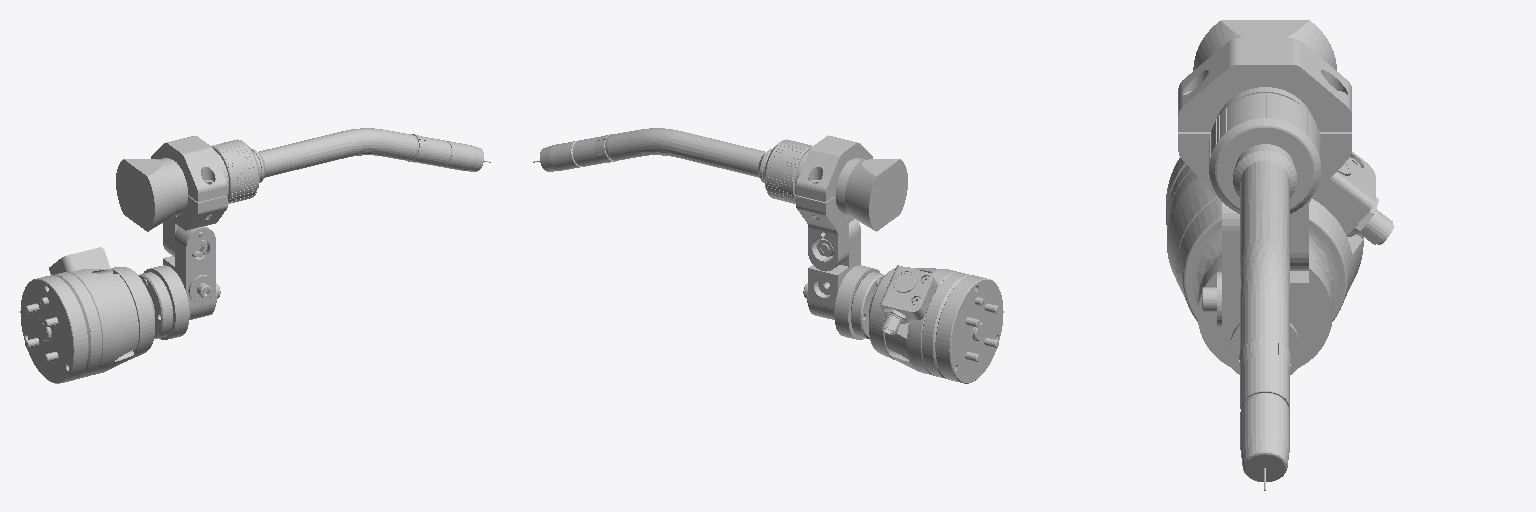
URDF robot description (gp7):
<?xml version='1.0' encoding='utf-8'?>
<robot name="gp7">
  <link name="Base">
    <visual>
      <geometry>
        <mesh filename="meshes/visual/gp7_base_axis.stl" />
      </geometry>
      <material name="blue">
        <color rgba="0 0 1 1" />
      </material>
    </visual>
    <collision><geometry><sphere radius="0.164472" /></geometry><origin xyz="-0.001641 -0.000214 0.090296" rpy="0 0 0" /></collision></link>
  <link name="vendor_base_link" />
  <link name="Link1">
    <visual>
      <geometry>
        <mesh filename="meshes/visual/gp7_s_axis.stl" />
      </geometry>
      <material name="silver">
        <color rgba="0.8 0.8 0.8 1" />
      </material>
    </visual>
    <collision><geometry><sphere radius="0.11895" /></geometry><origin xyz="-0.000119 0.0 0.261213" rpy="0 0 0" /></collision><collision><geometry><sphere radius="0.079117" /></geometry><origin xyz="0.040256 0.036395 0.332484" rpy="0 0 0" /></collision><collision><geometry><sphere radius="0.078406" /></geometry><origin xyz="0.040256 -0.036395 0.332484" rpy="0 0 0" /></collision></link>
  <link name="Link2">
    <visual>
      <geometry>
        <mesh filename="meshes/visual/gp7_l_axis.stl" />
      </geometry>
      <material name="blue">
        <color rgba="0 0 1 1" />
      </material>
    </visual>
    <collision><geometry><sphere radius="0.102818" /></geometry><origin xyz="-0.032775 -0.068236 0.22181" rpy="0 0 0" /></collision><collision><geometry><sphere radius="0.094131" /></geometry><origin xyz="-0.025394 -0.080601 0.375909" rpy="0 0 0" /></collision><collision><geometry><sphere radius="0.093407" /></geometry><origin xyz="-0.03413 -0.068914 0.112765" rpy="0 0 0" /></collision><collision><geometry><sphere radius="0.086461" /></geometry><origin xyz="-0.042941 0.001266 0.175065" rpy="0 0 0" /></collision><collision><geometry><sphere radius="0.102818" /></geometry><origin xyz="-0.032775 0.068236 0.22181" rpy="0 0 0" /></collision><collision><geometry><sphere radius="0.059744" /></geometry><origin xyz="0.002207 -0.083922 0.44615" rpy="0 0 0" /></collision><collision><geometry><sphere radius="0.059744" /></geometry><origin xyz="0.002207 0.083922 0.44615" rpy="0 0 0" /></collision><collision><geometry><sphere radius="0.094131" /></geometry><origin xyz="-0.025394 0.080601 0.375909" rpy="0 0 0" /></collision><collision><geometry><sphere radius="0.093407" /></geometry><origin xyz="-0.03413 0.068914 0.112765" rpy="0 0 0" /></collision><collision><geometry><sphere radius="0.08691" /></geometry><origin xyz="-0.00318 0.085804 0.011935" rpy="0 0 0" /></collision><collision><geometry><sphere radius="0.08691" /></geometry><origin xyz="-0.00318 -0.085804 0.011935" rpy="0 0 0" /></collision></link>
  <link name="Link3">
    <visual>
      <geometry>
        <mesh filename="meshes/visual/gp7_u_axis.stl" />
      </geometry>
      <material name="silver">
        <color rgba="0.8 0.8 0.8 1" />
      </material>
    </visual>
    <collision><geometry><sphere radius="0.115977" /></geometry><origin xyz="-0.017356 -0.001491 0.018327" rpy="0 0 0" /></collision></link>
  <link name="Link4">
    <visual>
      <geometry>
        <mesh filename="meshes/visual/gp7_r_axis.stl" />
      </geometry>
      <material name="blue">
        <color rgba="0 0 1 1" />
      </material>
    </visual>
    <collision><geometry><sphere radius="0.06667" /></geometry><origin xyz="0.112197 0.0 0.0" rpy="0 0 0" /></collision><collision><geometry><sphere radius="0.071966" /></geometry><origin xyz="0.181762 0.0 0.0" rpy="0 0 0" /></collision><collision><geometry><sphere radius="0.075208" /></geometry><origin xyz="0.250897 0.0 0.0" rpy="0 0 0" /></collision><collision><geometry><sphere radius="0.074723" /></geometry><origin xyz="0.31287 0.0 0.0" rpy="0 0 0" /></collision><collision><geometry><sphere radius="0.073844" /></geometry><origin xyz="0.364538 0.0 0.0" rpy="0 0 0" /></collision><collision><geometry><sphere radius="0.057088" /></geometry><origin xyz="0.428115 -0.016847 0.0" rpy="0 0 0" /></collision><collision><geometry><sphere radius="0.057152" /></geometry><origin xyz="0.427751 0.014466 0.0" rpy="0 0 0" /></collision></link>
  <link name="Link5">
    <visual>
      <geometry>
        <mesh filename="meshes/visual/gp7_b_axis.stl" />
      </geometry>
      <material name="silver">
        <color rgba="0.8 0.8 0.8 1" />
      </material>
    </visual>
    <collision><geometry><sphere radius="0.053627" /></geometry><origin xyz="0.000172 -2e-06 -1e-05" rpy="0 0 0" /></collision><collision><geometry><sphere radius="0.045624" /></geometry><origin xyz="0.048766 0.0 0.0" rpy="0 0 0" /></collision></link>
  <link name="Link6">
    <visual>
      <geometry>
        <mesh filename="meshes/visual/gp7_t_axis.stl" />
      </geometry>
      <material name="blue">
        <color rgba="0 0 1 1" />
      </material>
    </visual>
    <collision><geometry><sphere radius="0.033324" /></geometry><origin xyz="-0.014006 4e-06 -2.4e-05" rpy="0 0 0" /></collision></link>
  <link name="flange" />
  <link name="torch">
    <visual>
      <geometry>
        
        <mesh filename="meshes/visual/torch_visual_shortened_head.stl" />
      </geometry>
      <material name="silver">
        <color rgba="0.8 0.8 0.8 1" />
      </material>
    </visual>
    <collision><geometry><sphere radius="0.059426" /></geometry><origin xyz="0.0 -0.00102 0.0544" rpy="0 0 0" /></collision><collision><geometry><sphere radius="0.046906" /></geometry><origin xyz="-0.000376 0.013972 0.127321" rpy="0 0 0" /></collision><collision><geometry><sphere radius="0.020105" /></geometry><origin xyz="0.0 0.067457 0.352698" rpy="0 0 0" /></collision><collision><geometry><sphere radius="0.02004" /></geometry><origin xyz="-0.0 0.055643 0.379078" rpy="0 0 0" /></collision><collision><geometry><sphere radius="0.052295" /></geometry><origin xyz="0.0 0.090849 0.128805" rpy="0 0 0" /></collision><collision><geometry><sphere radius="0.02839" /></geometry><origin xyz="0.0 0.094363 0.181438" rpy="0 0 0" /></collision><collision><geometry><sphere radius="0.021893" /></geometry><origin xyz="0.0 0.095447 0.219442" rpy="0 0 0" /></collision><collision><geometry><sphere radius="0.023401" /></geometry><origin xyz="0.0 0.094379 0.250682" rpy="0 0 0" /></collision><collision><geometry><sphere radius="0.022797" /></geometry><origin xyz="0.0 0.092331 0.284823" rpy="0 0 0" /></collision><collision><geometry><sphere radius="0.022531" /></geometry><origin xyz="0.0 0.082766 0.319009" rpy="0 0 0" /></collision></link>
  <link name="tool_center_point" />
  
  <joint name="RevoluteJoint1" type="revolute">
    <parent link="Base" />
    <child link="Link1" />
    <origin xyz="0 0 0" />
    <axis xyz="0 0 1" />
    <limit effort="1" lower="-2.96705961" upper="2.96705961" velocity="6.544984694978735" />
  </joint>
  <joint name="joint_vendor_base" type="fixed">
    <parent link="Base" />
    <child link="vendor_base_link" />
    <origin xyz="0 0 0.330" />
  </joint>
  <joint name="RevoluteJoint2" type="revolute">
    <parent link="Link1" />
    <child link="Link2" />
    <origin xyz="0.040 0 0.330" />
    <axis xyz="0 1 0" />
    <limit effort="1" lower="-2.53072739" upper="1.13446403" velocity="5.497787143782138" />
  </joint>
  <joint name="RevoluteJoint3" type="revolute">
    <parent link="Link2" />
    <child link="Link3" />
    <origin xyz="0 0 0.445" />
    <axis xyz="0 -1 0" />
    <limit effort="1" lower="-1.22173047" upper="3.31612563" velocity="7.155849933176751" />
  </joint>
  <joint name="RevoluteJoint4" type="revolute">
    <parent link="Link3" />
    <child link="Link4" />
    <origin xyz="0.0 0 0.040" />
    <axis xyz="-1 0 0" />
    <limit effort="1" lower="-3.31612563" upper="3.31612563" velocity="9.599310885968812" />
  </joint>
  <joint name="RevoluteJoint5" type="revolute">
    <parent link="Link4" />
    <child link="Link5" />
    <origin xyz="0.440 0 0" />
    <axis xyz="0 -1 0" />
    <limit effort="1" lower="-2.3561945" upper="2.3561945" velocity="9.599310885968812" />
  </joint>
  <joint name="RevoluteJoint6" type="revolute">
    <parent link="Link5" />
    <child link="Link6" />
    <origin xyz="0.080 0 0" />
    <axis xyz="-1 0 0" />
    <limit effort="1" lower="-6.28318548" upper="6.28318548" velocity="17.453292519943293" />
  </joint>
  <joint name="FixedJoint1" type="fixed">
    <parent link="Link6" />
    <child link="flange" />
    <origin rpy="0 -1.5707963267948966 3.141592653589793" />
  </joint>
  <joint name="TorchJoint" type="fixed">
    <parent link="flange" />
    <child link="torch" />
    <origin rpy="0 0 -1.5707963267948966" xyz="0 0 -0.015262616184248623" />
  </joint>
  <joint name="FixedJoint2" type="fixed">
    <parent link="torch" />
    <child link="tool_center_point" />
    <origin rpy="0.349066 0 0" xyz="0 0.0495 0.398" />
  </joint>
</robot>

--- Render facts (derived) ---
3 views of the same robot in one strip: view 1: azimuth 30°, elevation 25°; view 2: azimuth 150°, elevation 25°; view 3: azimuth 270°, elevation 25° (orthographic).
Robot: gp7 — 11 links, 10 joints (6 revolute, 4 fixed); root link Base; default pose: every joint at zero.
Visible links, largest first — view 1: torch; view 2: torch; view 3: torch.
Boxes of the visible links, <box> form: torch: <box>20,128,490,383</box>; torch: <box>533,128,1003,383</box>; torch: <box>1166,20,1393,490</box>.
Size in the robot's own frame: 0.3911 by 0.092 by 0.1645 metres.
Meshes: 8 distinct files referenced, 1 mesh visuals loaded (1 binary STL); not drawn: 7 (reference not matched to a file when rendering).